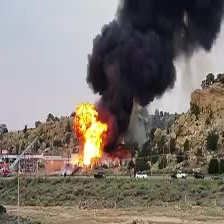fire: (72, 98, 107, 172)
smoke: (87, 1, 223, 132)
